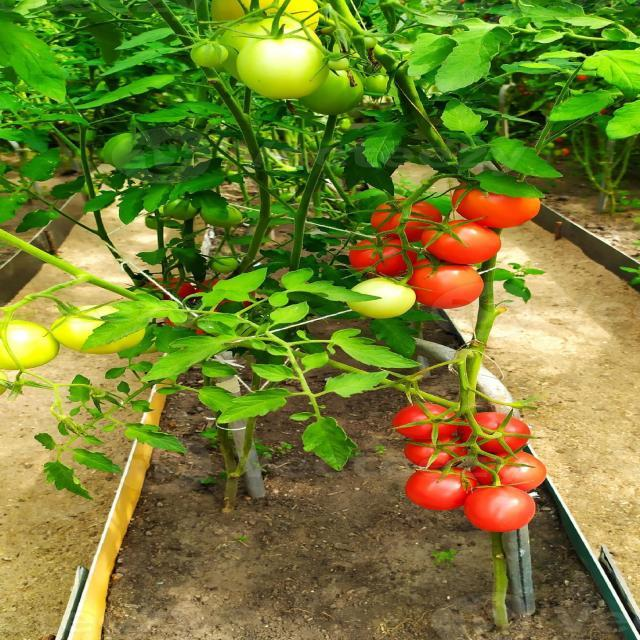kirmizi: (352, 166, 512, 286), (404, 398, 544, 528)
yesil: (0, 266, 168, 406)
